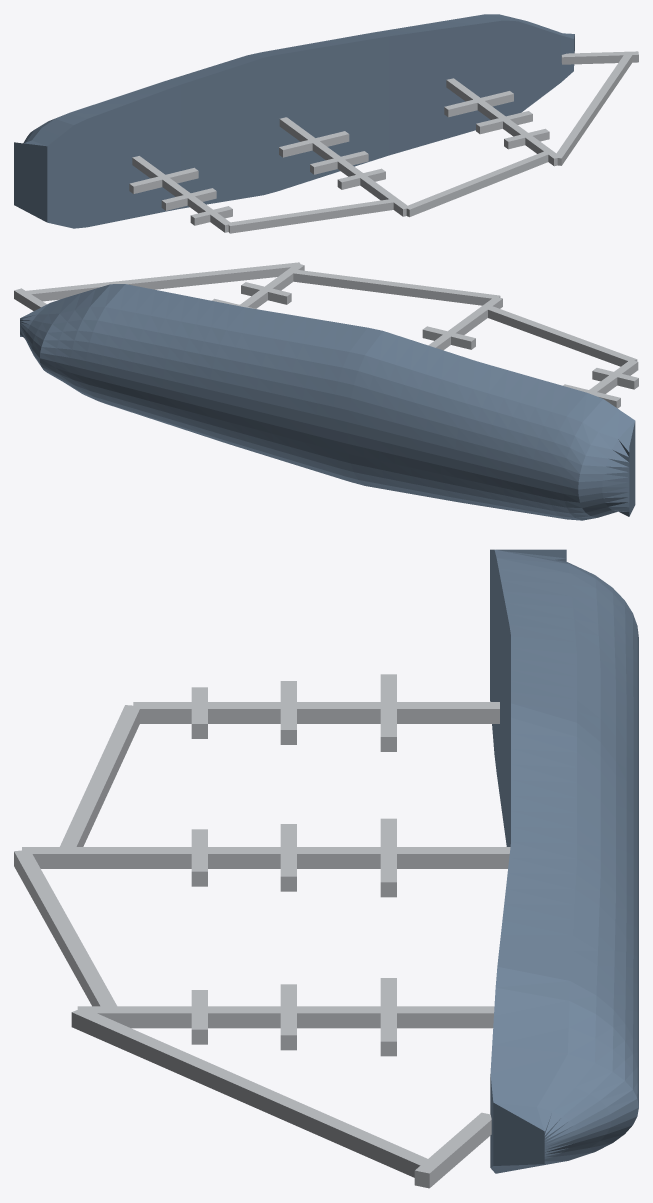
The model's file is square-rigger-loft.glb.
3 renders of one model, top to bottom at view 1: azimuth 30°, elevation 25°; view 2: azimuth 150°, elevation 25°; view 3: azimuth 270°, elevation 25°, orthographic. The views are drawn at different scales.
Visible parts, largest first — view 1: square-rigger; view 2: square-rigger; view 3: square-rigger.
Boxes of the visible parts, x1,y1,x2,y2 form: square-rigger: [14, 14, 638, 233]; square-rigger: [14, 262, 638, 520]; square-rigger: [14, 549, 638, 1188].
Size of the model in its own units: 1.97 by 0.4379 by 0.9117.
